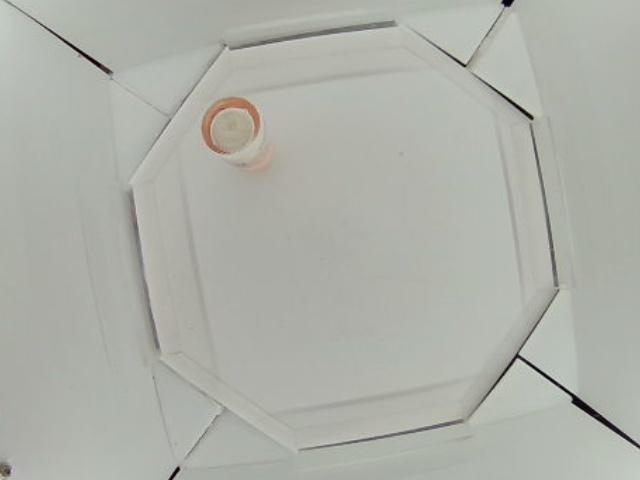Bottle: (197, 95, 271, 171)
